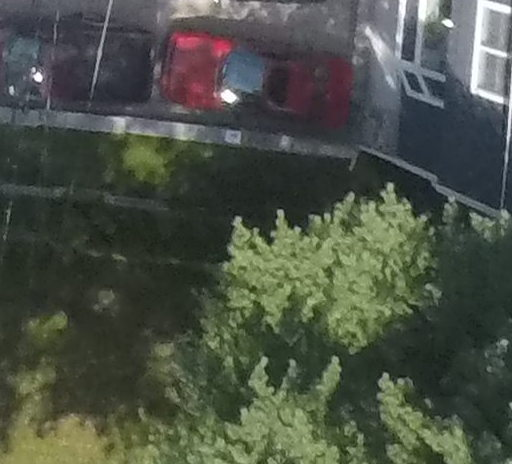car: (159, 15, 369, 132), (1, 18, 153, 105)
